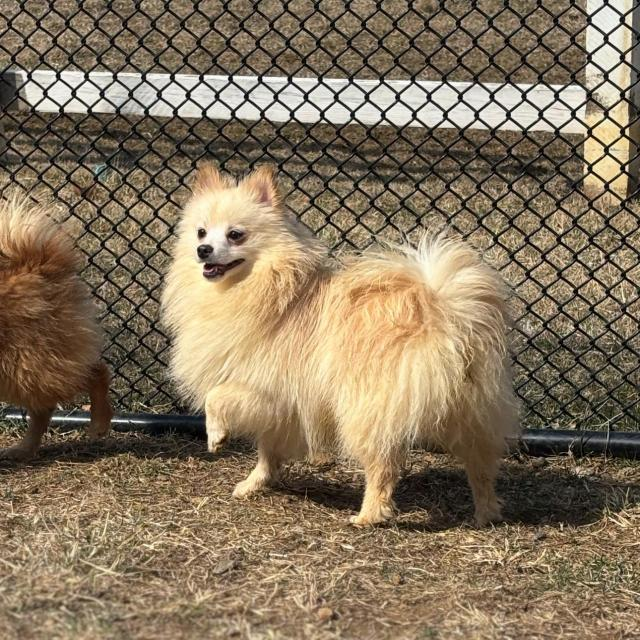pomeranian_dog: (168, 156, 312, 323)
